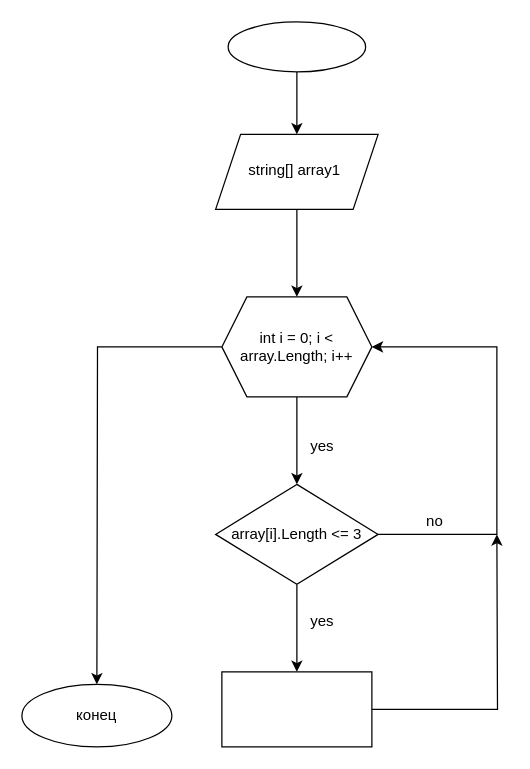
The diagram is 530 pixels wide and 769 high, and some of its shapes have lost their labels. Each missing label, with the box of its shape:
print(array[i]): (221, 671, 372, 747)
начало: (227, 21, 366, 72)
